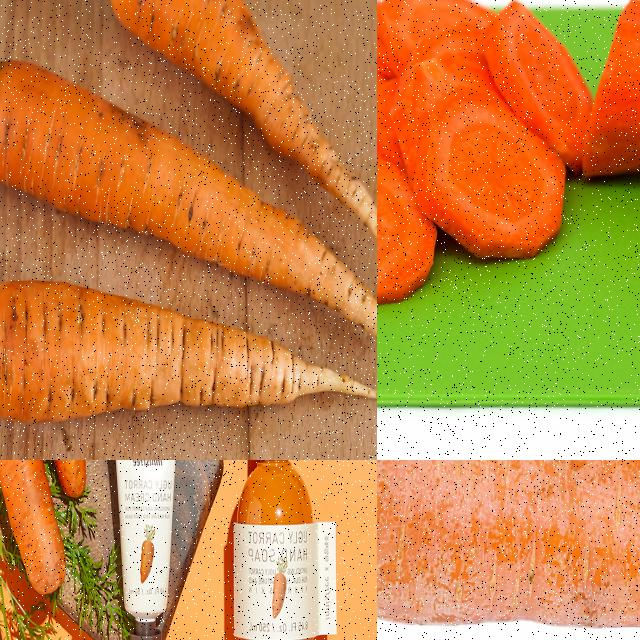carrot: (0, 50, 376, 350), (101, 0, 376, 278), (377, 0, 593, 311), (0, 273, 376, 431), (377, 460, 639, 639), (576, 0, 639, 197), (0, 460, 69, 597)
